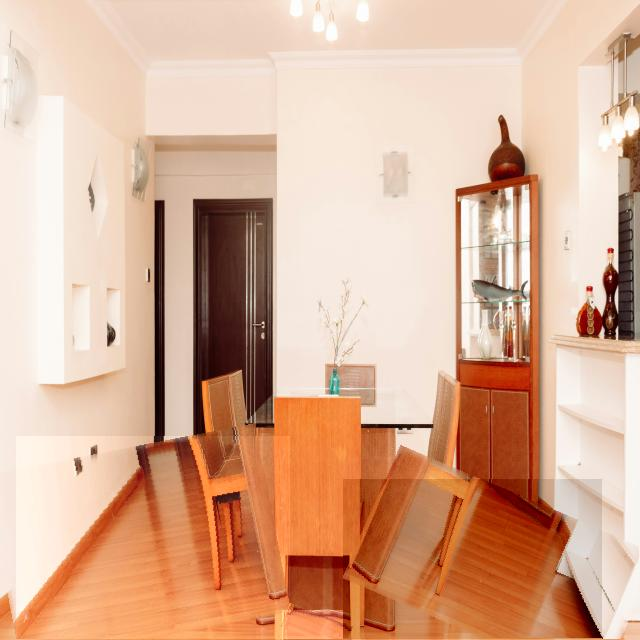floor: (17, 437, 290, 640), (343, 480, 602, 639), (282, 611, 351, 640)
